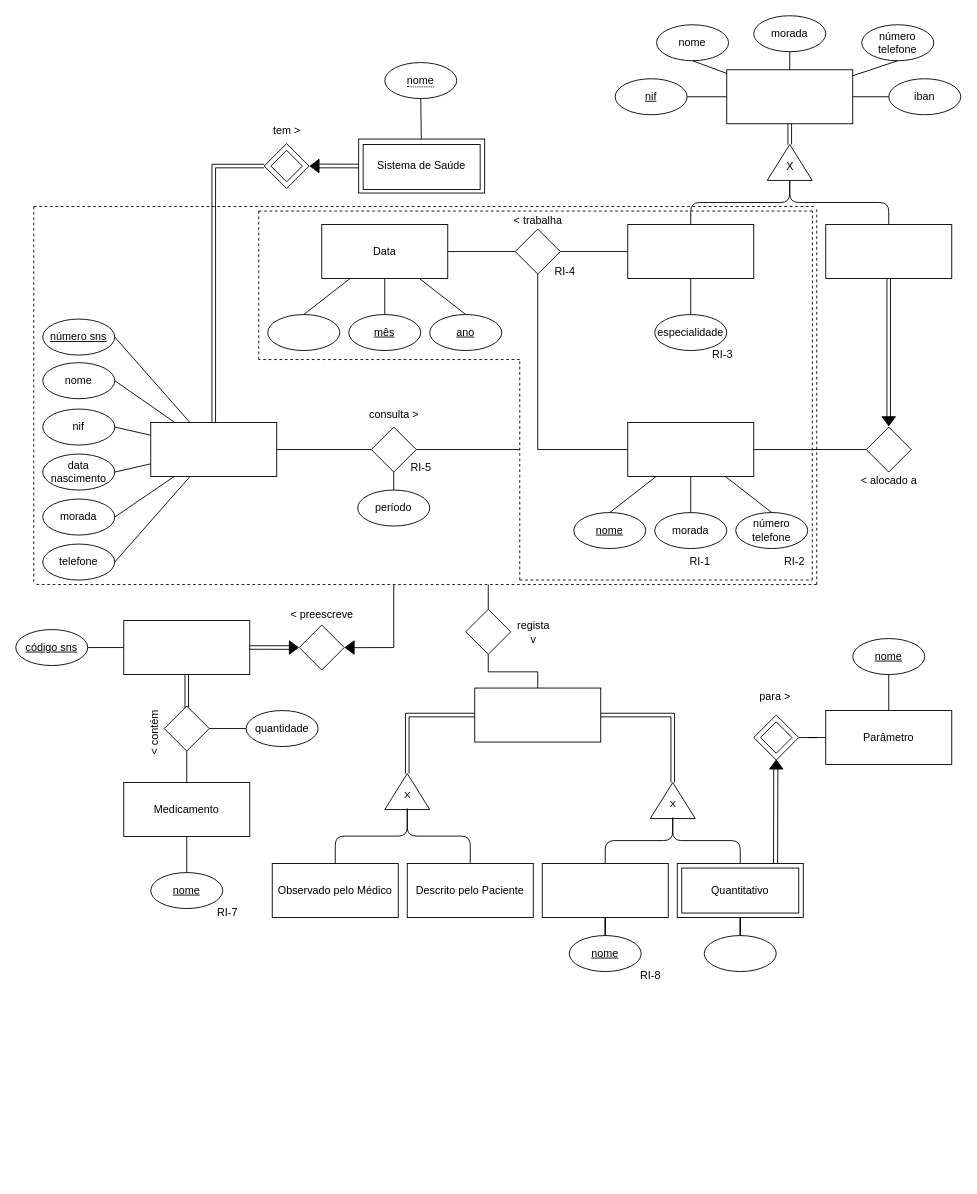
Image size: 977x1194. Some labels were removed from this diagram. The shapes that lost their labels are listed below. From the top down, each one's centre as x and y in pixels, then its label:
At pixel 789 96: "Profissional de Saúde".
At pixel 690 251: "Médico".
At pixel 888 251: "Enfermeiro".
At pixel 303 332: "dia".
At pixel 213 449: "Paciente".
At pixel 690 449: "Clínica".
At pixel 186 647: "Receita Médica".
At pixel 537 714: "Sintoma".
At pixel 604 890: "Qualitativo".
At pixel 739 953: "valor".
